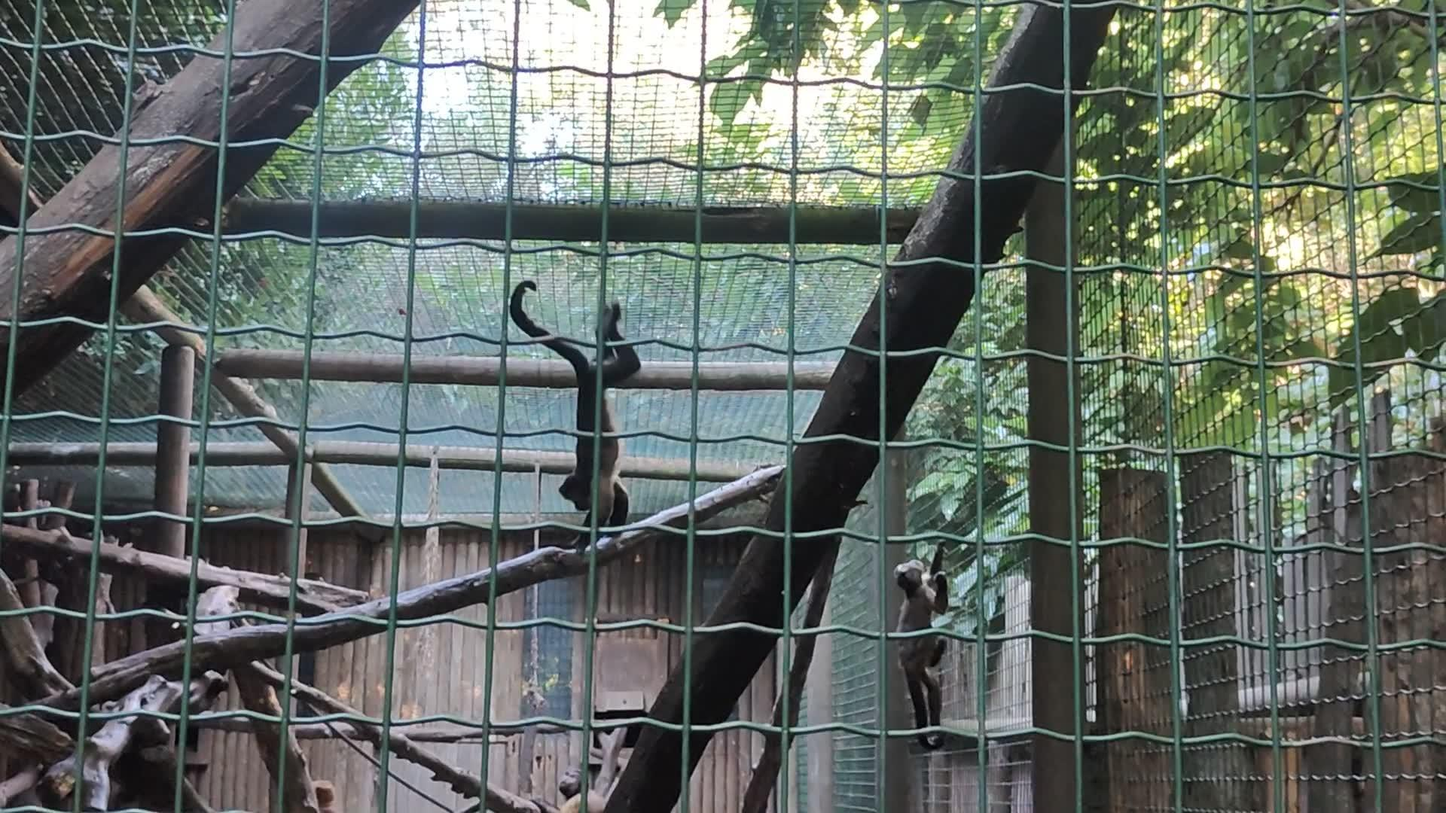boar: (509, 280, 641, 554), (893, 539, 949, 751)
